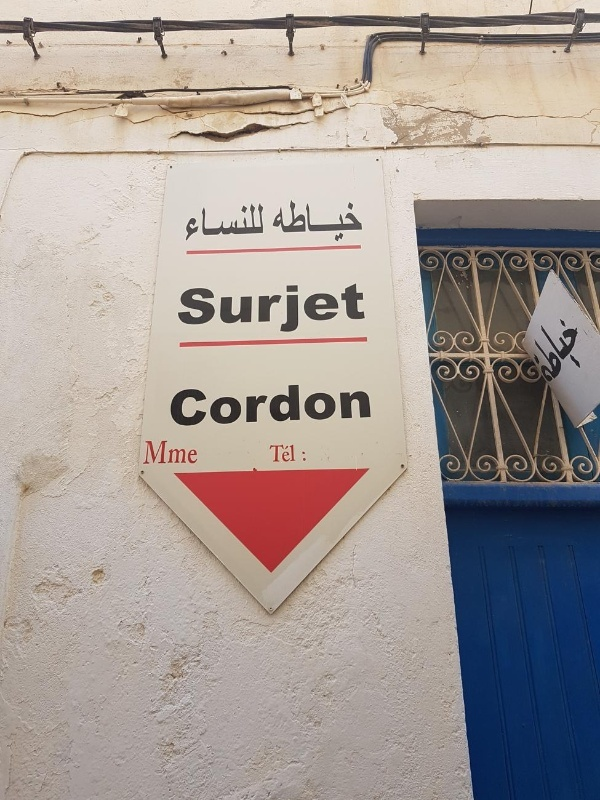text: (577, 306, 593, 409), (561, 306, 576, 409), (549, 306, 560, 409), (353, 283, 369, 333), (177, 283, 192, 333), (193, 283, 208, 333), (209, 283, 224, 333), (225, 283, 240, 333), (241, 283, 256, 333), (257, 283, 272, 333), (273, 283, 288, 333), (289, 283, 304, 333), (305, 283, 320, 333), (321, 283, 336, 333), (337, 283, 352, 333), (177, 383, 192, 428), (193, 383, 208, 428), (209, 383, 224, 428), (225, 383, 240, 428), (241, 383, 256, 428), (257, 383, 272, 428), (273, 383, 288, 428), (289, 383, 304, 428), (305, 383, 320, 428), (321, 383, 336, 428), (337, 383, 352, 428), (353, 383, 368, 428), (273, 200, 288, 242), (289, 200, 304, 242), (305, 200, 320, 242), (321, 200, 336, 242), (337, 200, 352, 242), (193, 203, 208, 241), (209, 203, 224, 241), (225, 203, 240, 241), (241, 203, 256, 241), (353, 200, 364, 242), (161, 439, 176, 467), (177, 439, 192, 467), (146, 439, 160, 467), (182, 203, 192, 241), (257, 203, 265, 241), (273, 444, 288, 464), (170, 383, 176, 428), (369, 383, 374, 428), (193, 439, 199, 467), (289, 444, 297, 464), (269, 444, 272, 464), (301, 450, 304, 464), (305, 450, 308, 464)
